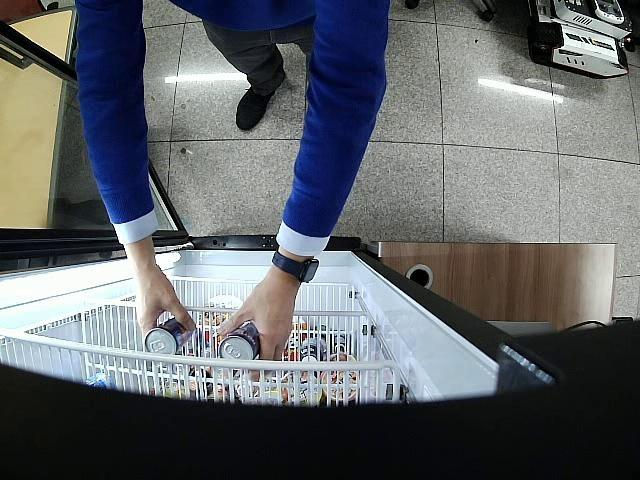16_hot6: (144, 317, 194, 354), (219, 322, 261, 360)
